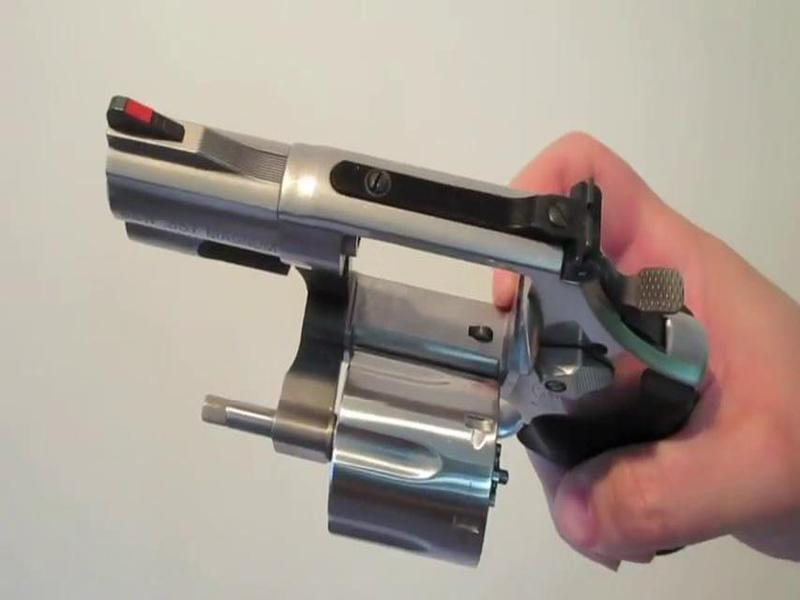Revolver: (94, 66, 728, 570)
